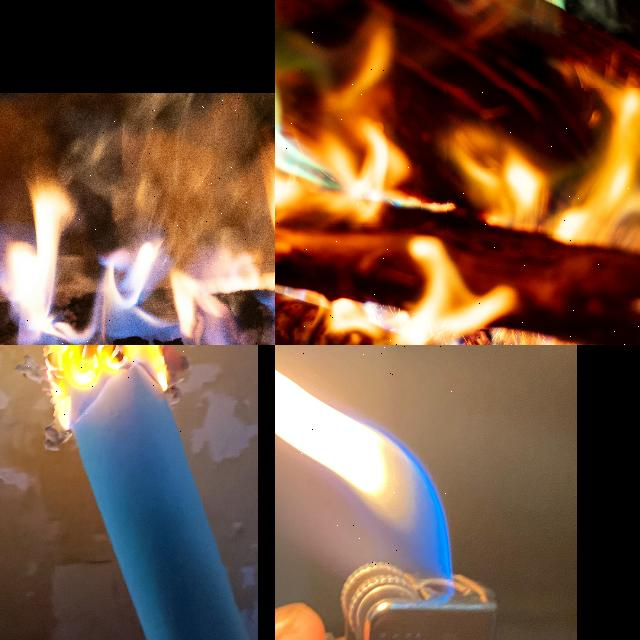fire: (275, 369, 452, 581), (447, 89, 640, 246), (297, 236, 568, 345), (275, 29, 420, 225), (19, 345, 188, 450)
smoke: (63, 93, 275, 262)
